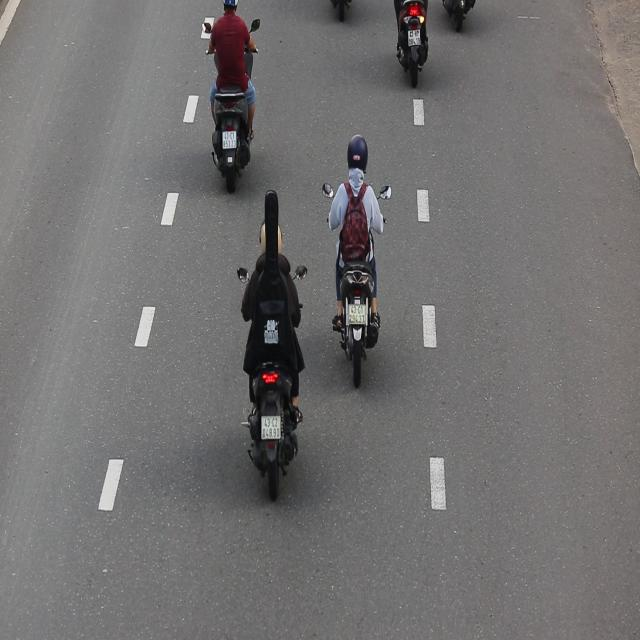motorbike: (238, 185, 306, 505), (318, 132, 389, 390)
